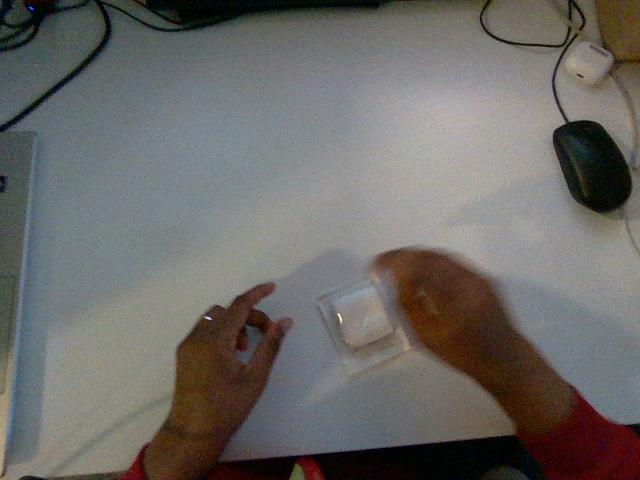gauze: (318, 276, 410, 374)
